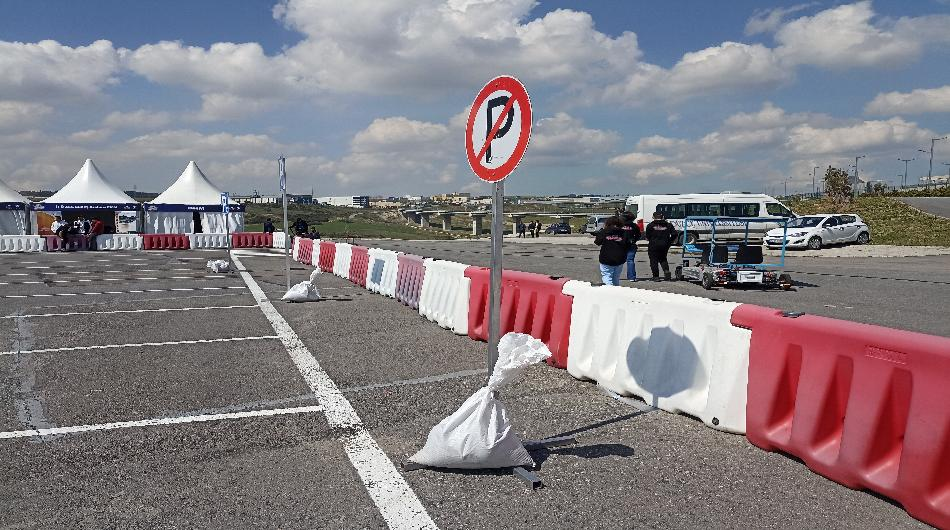park_yapilmaz_3: (456, 77, 540, 186)
